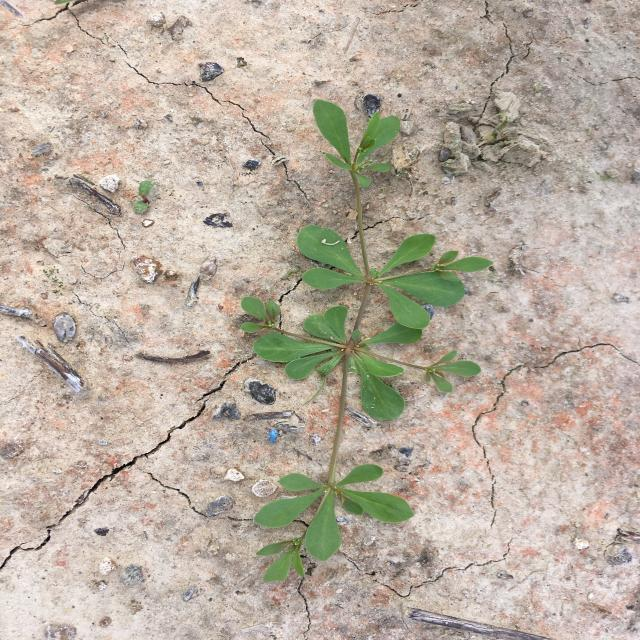Carpetweed: (240, 98, 494, 582)
